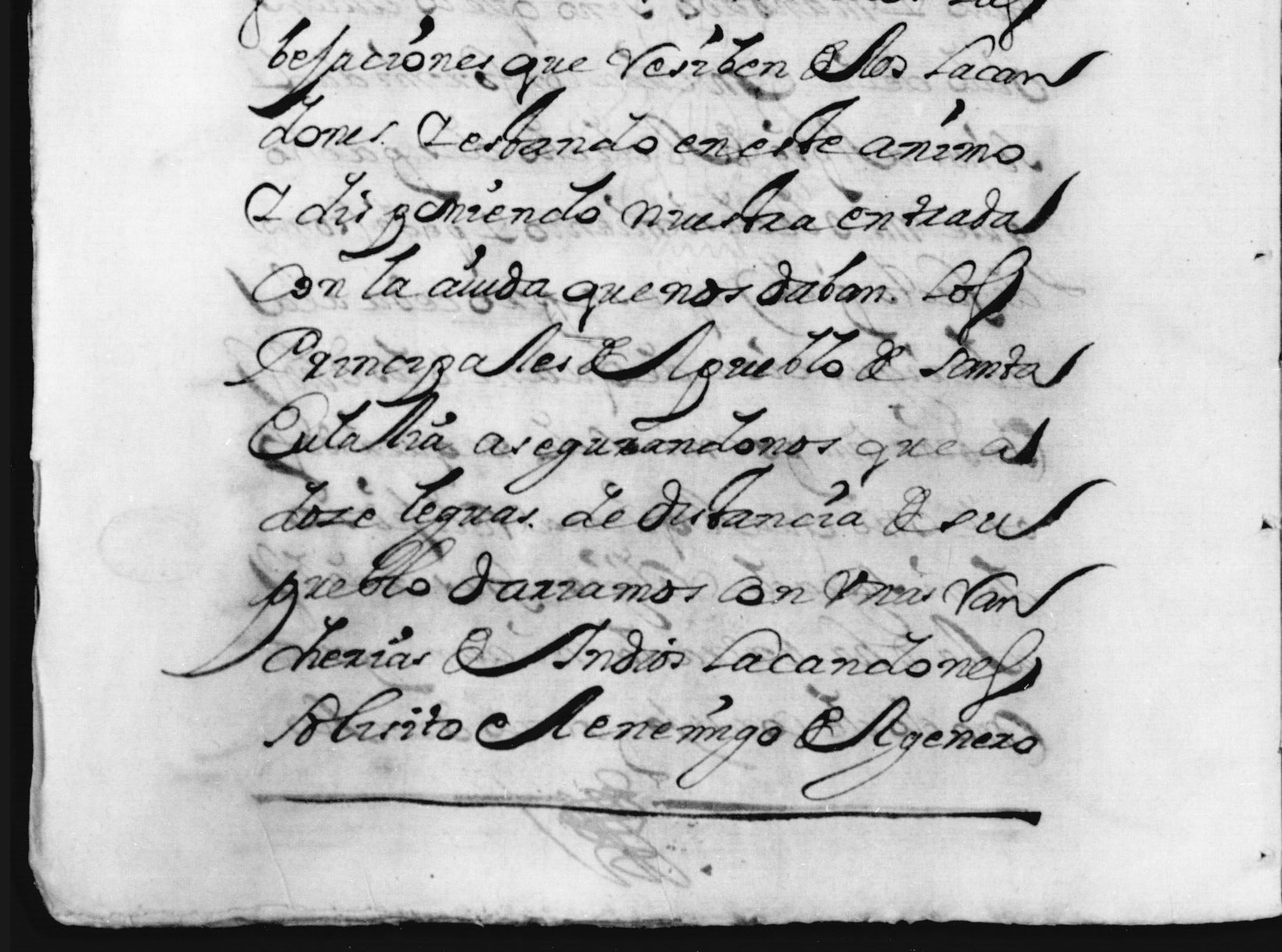lacandon: (702, 627, 1044, 723)
